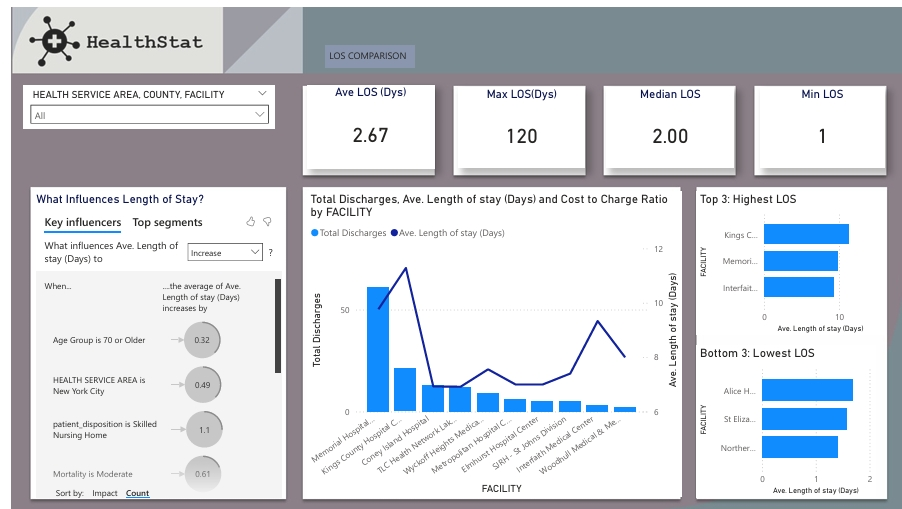

The page's visual inventory and layout, read from the dashboard file:
{"tool":"powerbi","page":{"name":"LOS Comparison","canvas":[1280,720],"ordinal":1},"visuals":[{"type":"keyDriversVisual","title":"What Influences Length of Stay?","fields":{"Target":["Key Measures.Ave. Length of stay (Days)"],"ExplainBy":["Fact_Admissions.patient_disposition","Dim_Demographics.Ethnicity","Dim_Procedure.Procedure","Dim_Demographics.Age Group","Dim_Hospital.FACILITY","Dim_Demographics.Gender","Dim_Demographics.Zip Code","Dim_Hospital.COUNTY","Dim_Demographics.Race","Dim_Severity.Severity","Dim_Diagnosis.Diagnosis","Fact_Admissions.Mortality"]},"box":[30.2,263.7,361.2,438.4],"z":0},{"type":"card","title":"Ave LOS (Dys)","fields":{"Values":["Key Measures.Ave. Length of stay (Days)"]},"box":[423.3,110.9,181.4,119.3],"z":1},{"type":"card","title":"Max LOS(Dys)","fields":{"Values":["Key Measures.Max LOS"]},"box":[640,114.2,181.4,115.9],"z":2},{"type":"card","title":"Median LOS","fields":{"Values":["Key Measures.Median LOS"]},"box":[851.7,114.2,183.1,115.9],"z":3},{"type":"card","title":"Min LOS","fields":{"Values":["Key Measures.Min LOS"]},"box":[1071.7,114.2,179.7,115.9],"z":4},{"type":"lineStackedColumnComboChart","fields":{"Category":["Dim_Hospital.FACILITY"],"Y":["Key Measures.Total Discharges"],"Y2":["Key Measures.Ave. Length of stay (Days)"]},"box":[423.3,263.7,535.9,438.4],"z":5},{"type":"clusteredBarChart","title":"Top 3:  Highest LOS","fields":{"Category":["Dim_Hospital.FACILITY"],"Y":["Key Measures.Ave. Length of stay (Days)"]},"box":[981,263.7,270.4,206.6],"z":6},{"type":"clusteredBarChart","title":"Bottom 3: Lowest LOS","fields":{"Y":["Key Measures.Ave. Length of stay (Days)"],"Category":["Dim_Hospital.FACILITY"]},"box":[981,483.8,257,218.4],"z":7},{"type":"slicer","fields":{"Values":["Dim_Hospital.HOSPITAL HIERARCHY.HEALTH SERVICE AREA","Dim_Hospital.HOSPITAL HIERARCHY.COUNTY","Dim_Hospital.HOSPITAL HIERARCHY.FACILITY"]},"box":[16.8,110.9,361.2,62.2],"z":8},{"type":"textbox","box":[450.2,53.8,127.7,31.9],"z":9}]}

Visuals, with their boxes in screenshot pixels (x1, y1, x2, y2), scaled from the page's 1280x720 canvas onto the 902x509 screenshot:
"What Influences Length of Stay?" keyDriversVisual: detection(21, 186, 276, 496)
"Ave LOS (Dys)" card: detection(298, 78, 426, 163)
"Max LOS(Dys)" card: detection(451, 81, 579, 163)
"Median LOS" card: detection(600, 81, 729, 163)
"Min LOS" card: detection(755, 81, 882, 163)
lineStackedColumnComboChart - Dim_Hospital.FACILITY x Key Measures.Total Discharges: detection(298, 186, 676, 496)
"Top 3:  Highest LOS" clusteredBarChart: detection(691, 186, 882, 332)
"Bottom 3: Lowest LOS" clusteredBarChart: detection(691, 342, 872, 496)
slicer - Dim_Hospital.HOSPITAL HIERARCHY.HEALTH SERVICE AREA x Dim_Hospital.HOSPITAL HIERARCHY.COUNTY: detection(12, 78, 266, 122)
textbox: detection(317, 38, 407, 61)
